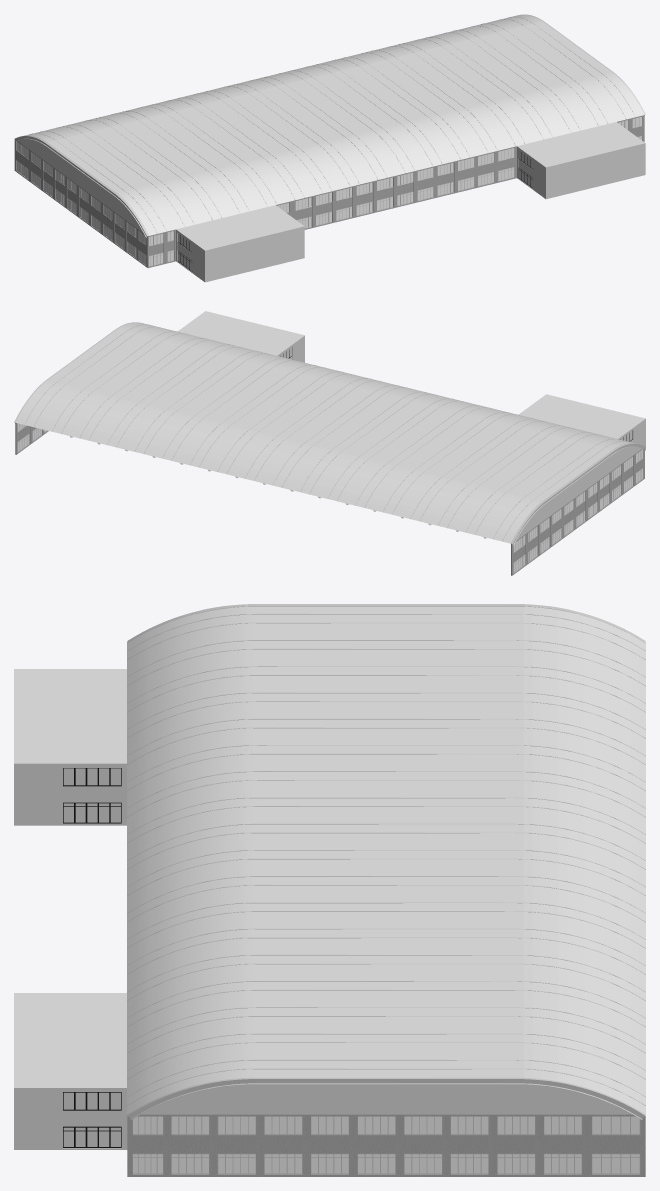
File: Pabellon-02-03_new.fbx
The picture shows the model from 3 angles, top to bottom: view 1: azimuth 30°, elevation 25°; view 2: azimuth 150°, elevation 25°; view 3: azimuth 270°, elevation 25°; orthographic projection. The views are drawn at different scales.
Parts seen in each view (by area): view 1: techo, pared; view 2: techo, pared; view 3: techo, pared.
Part boxes in pixels (box(x1,y1,x2,y2)): techo: box(14, 14, 645, 237); pared: box(14, 115, 645, 282); techo: box(14, 322, 645, 545); pared: box(15, 311, 645, 575); techo: box(127, 604, 645, 1119); pared: box(14, 669, 645, 1176).
Size of the model in its own units: 36890 by 3609 by 20758.
